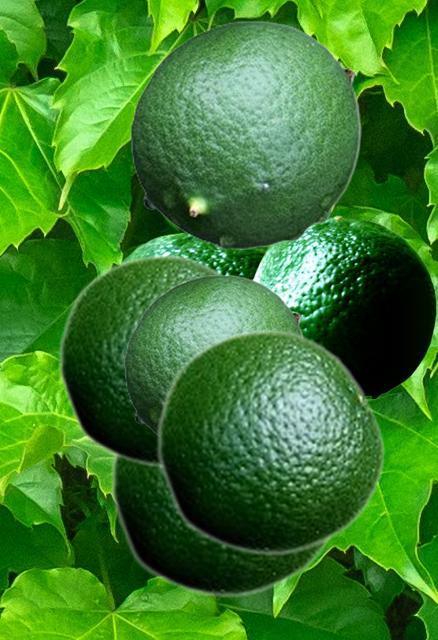calamansi: (155, 328, 385, 556), (130, 20, 360, 248), (57, 253, 225, 468), (253, 215, 435, 397), (109, 455, 334, 598), (124, 274, 305, 435), (119, 231, 266, 278)
